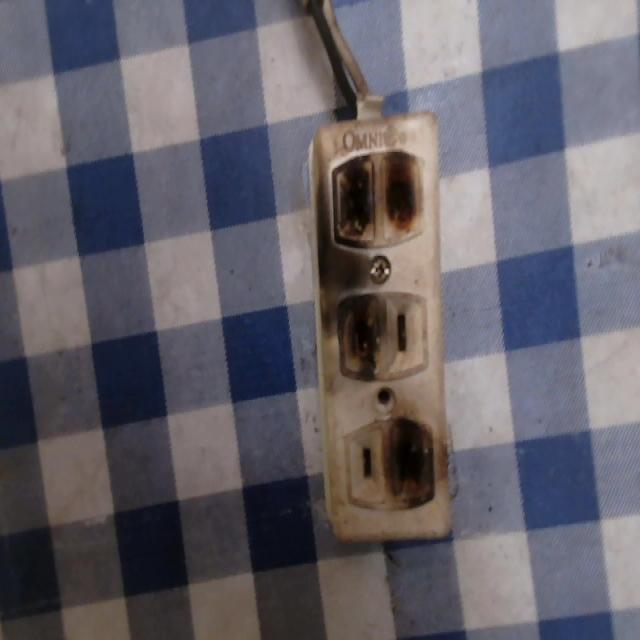-: (314, 141, 434, 252), (321, 282, 392, 386), (376, 416, 447, 515)
